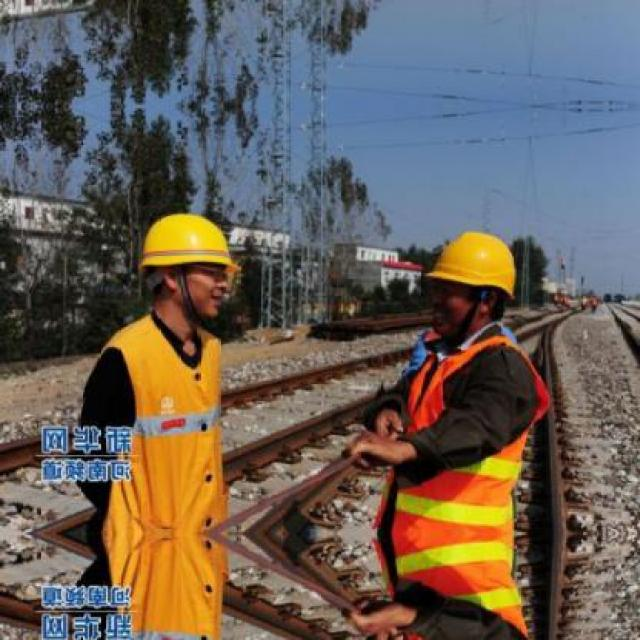Reflective-Jacket: (371, 325, 560, 546), (88, 313, 237, 537)
Safety-Helmet: (412, 225, 531, 309), (129, 204, 251, 284)
